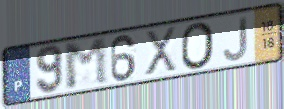6: (109, 32, 138, 84)
9: (34, 43, 65, 97)
J: (221, 14, 250, 63)
M: (62, 35, 111, 92)
O: (180, 20, 216, 71)
X: (143, 25, 179, 78)
